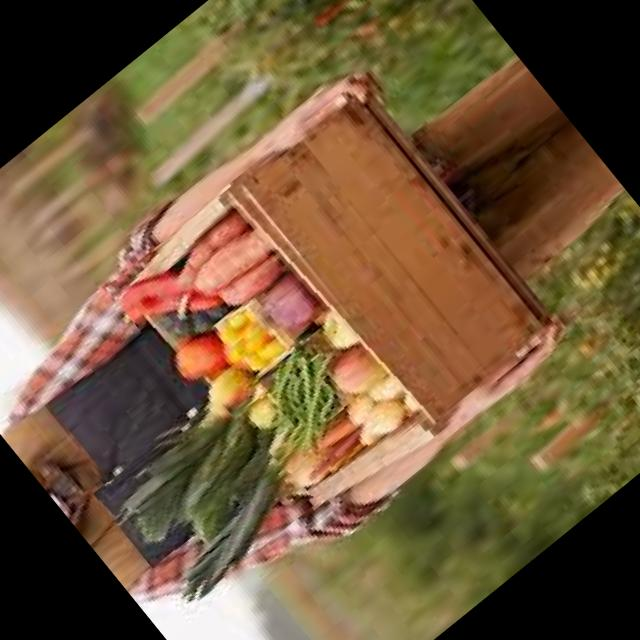Organic: (105, 172, 438, 523), (92, 385, 318, 608)
